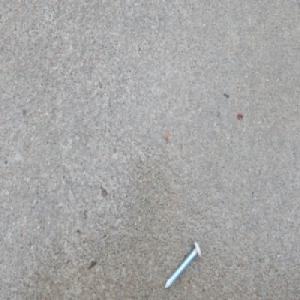Nail: (163, 239, 201, 291)
